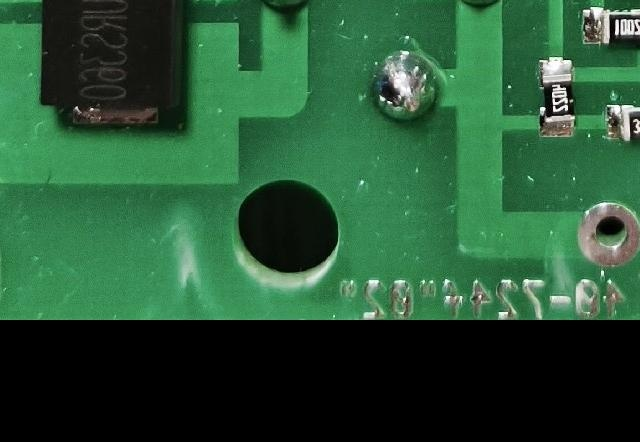chip-resistor: (534, 55, 577, 139), (575, 3, 640, 47)
diode: (34, 0, 194, 136)
